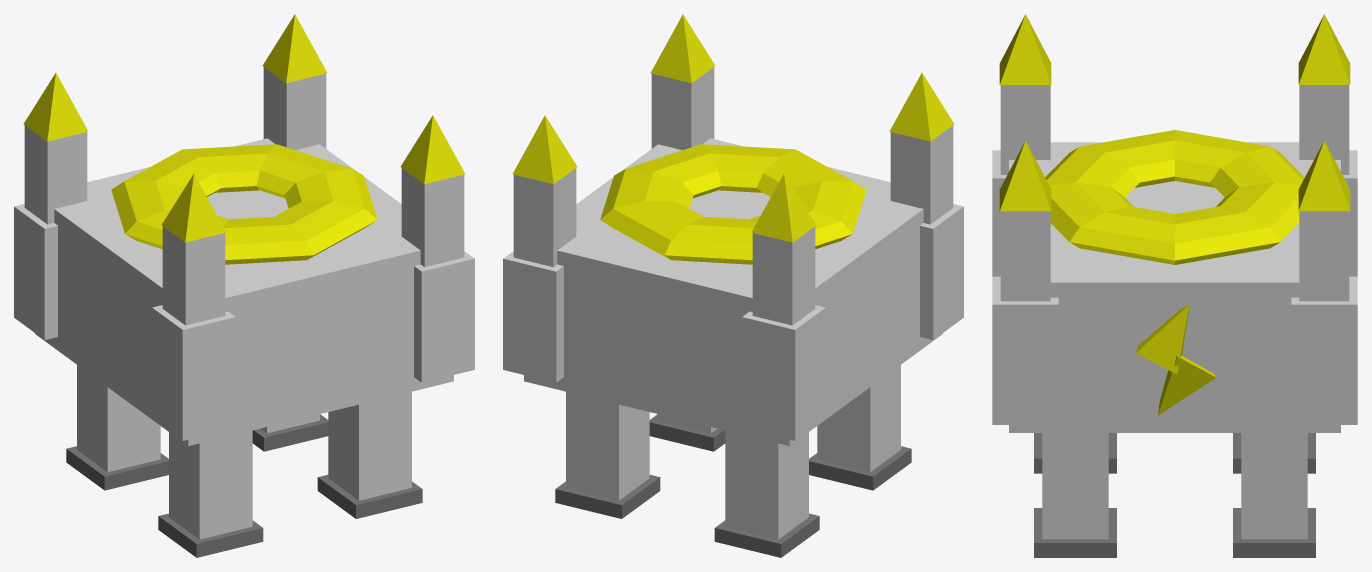
File: powerplant.fbx
The picture shows the model from 3 angles, left to right: view 1: azimuth 30°, elevation 25°; view 2: azimuth 150°, elevation 25°; view 3: azimuth 270°, elevation 25°; orthographic projection. The views are drawn at different scales.
Parts seen in each view (by area): view 1: pCube9, pTorus1, pCube10, pCube5, pCube6, pCube11, pCube8, pCube16, pCube13, pCube17, pCube15, pCube14 (+8 smaller); view 2: pCube9, pTorus1, pCube13, pCube8, pCube7, pCube12, pCube5, pCube15, pCube10, pCube14, pCube16, pCube17 (+8 smaller); view 3: pCube9, pTorus1, pCube11, pCube12, pCube6, pCube7, pCube14, pCube17, pCube15, pCube16, pCone3, pCone4 (+10 smaller).
Boxes of the visible parts, x1,y1,x2,y2 form: pCube9: (35, 138, 453, 445); pTorus1: (111, 144, 377, 264); pCube10: (152, 305, 235, 440); pCube5: (169, 430, 252, 539); pCube6: (328, 391, 411, 500); pCube11: (414, 251, 474, 382); pCube8: (77, 365, 160, 472); pCube16: (162, 226, 225, 325); pCube13: (14, 204, 57, 339); pCube17: (401, 168, 464, 267); pCube15: (24, 125, 87, 224); pCube14: (263, 67, 326, 149); pCube9: (524, 138, 942, 445); pTorus1: (600, 144, 866, 264); pCube13: (742, 305, 825, 440); pCube8: (725, 430, 808, 539); pCube7: (566, 391, 649, 500); pCube12: (503, 251, 563, 382); pCube5: (817, 365, 900, 472); pCube15: (752, 226, 815, 325); pCube10: (920, 204, 963, 339); pCube14: (513, 168, 576, 267); pCube16: (890, 125, 953, 224); pCube17: (651, 67, 714, 149); pCube9: (1009, 142, 1340, 432); pTorus1: (1045, 130, 1304, 264); pCube11: (992, 276, 1058, 424); pCube12: (1291, 276, 1357, 424); pCube6: (1042, 433, 1108, 539); pCube7: (1241, 433, 1307, 539); pCube14: (1299, 211, 1349, 301); pCube17: (1000, 211, 1050, 301); pCube15: (1299, 85, 1349, 174); pCube16: (1000, 85, 1050, 174); pCone3: (999, 140, 1051, 211); pCone4: (1298, 140, 1350, 211).
Bounding box in the file's own units: 442 × 560 × 440.
